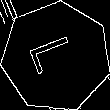L_E: (27, 33, 85, 81)
